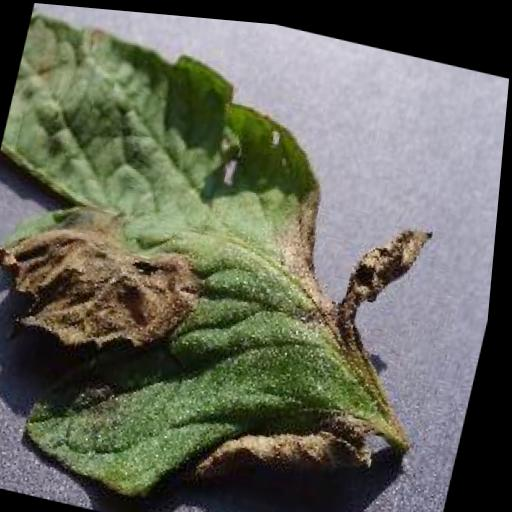Late Blight: (0, 6, 484, 512)
